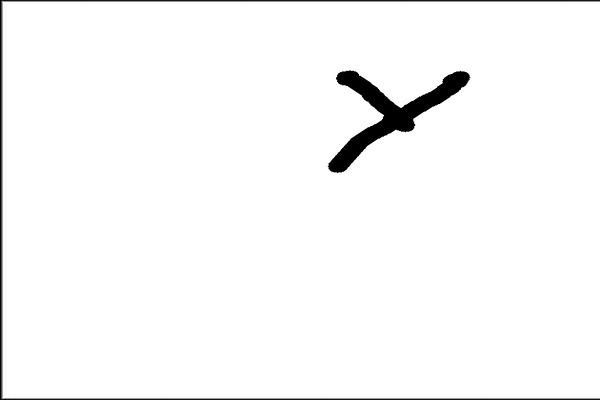Y: (313, 57, 477, 179)
